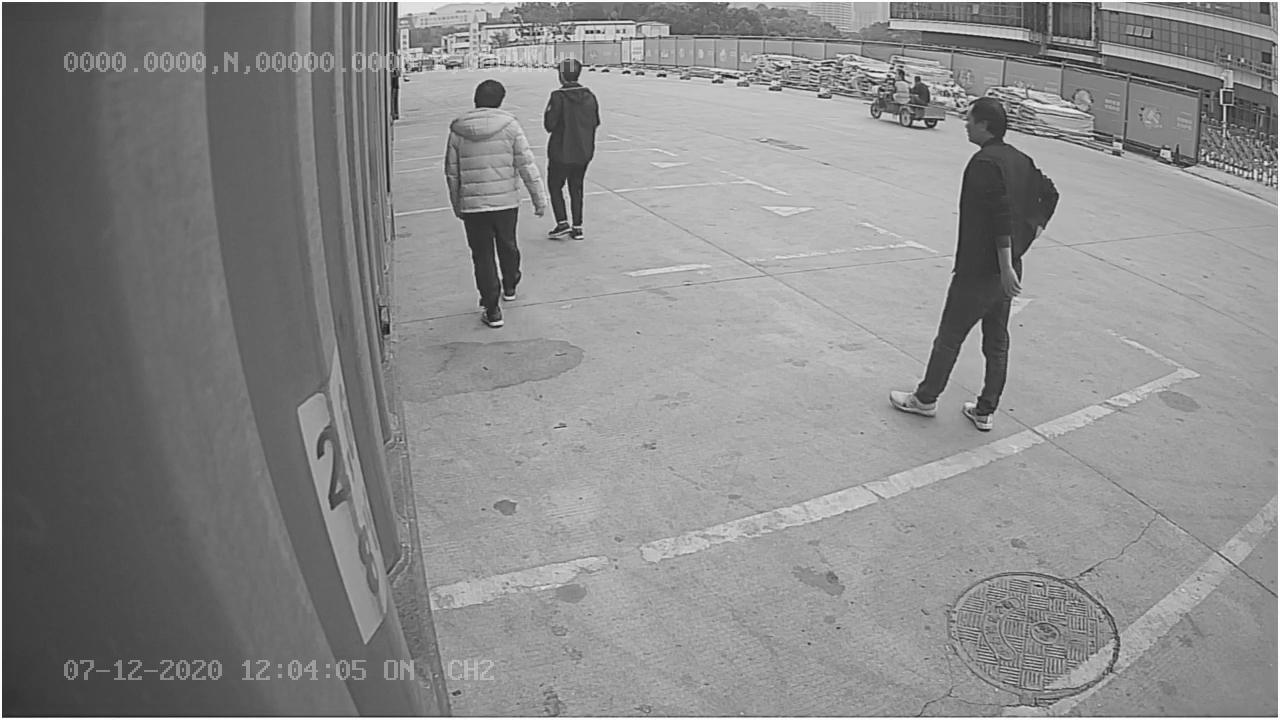person: (886, 97, 1059, 431), (437, 75, 549, 329)
